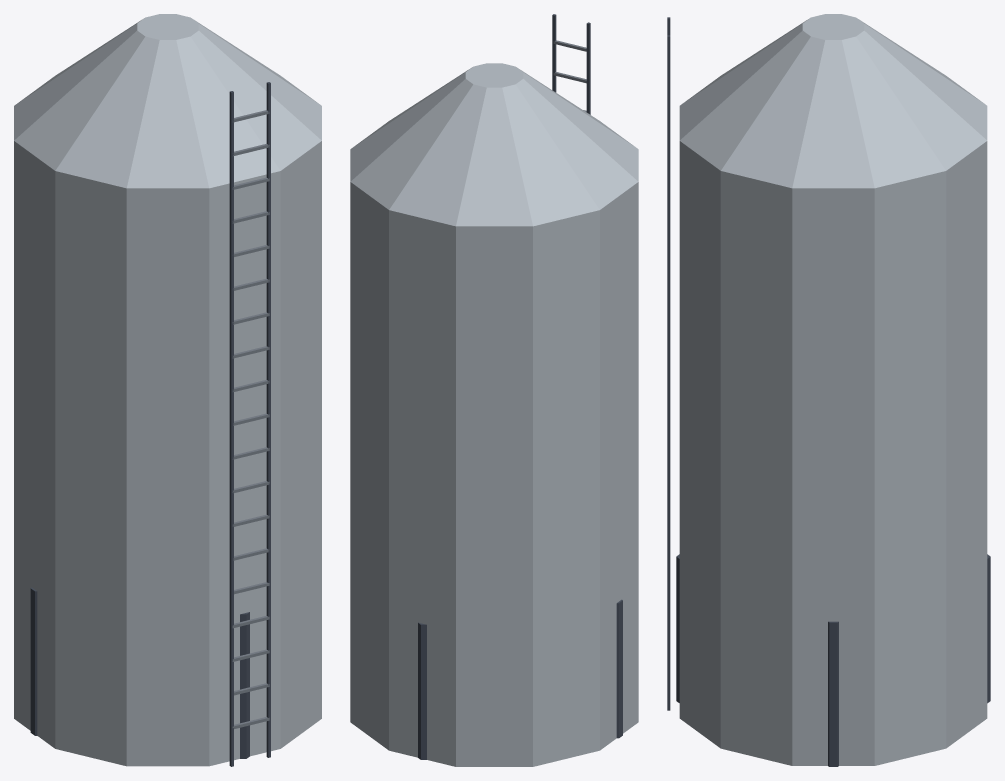
File: silo.glb
3 views of the same model, side by side, from view 1: azimuth 30°, elevation 25°; view 2: azimuth 150°, elevation 25°; view 3: azimuth 270°, elevation 25° (orthographic). The views are drawn at different scales.
Visible parts, largest first — view 1: silo; view 2: silo; view 3: silo.
Boxes of the visible parts, x1,y1,x2,y2 form: silo: [14, 14, 321, 766]; silo: [350, 14, 638, 766]; silo: [667, 14, 990, 766].
Size of the model in its own units: 2.94 by 7 by 3.05.
